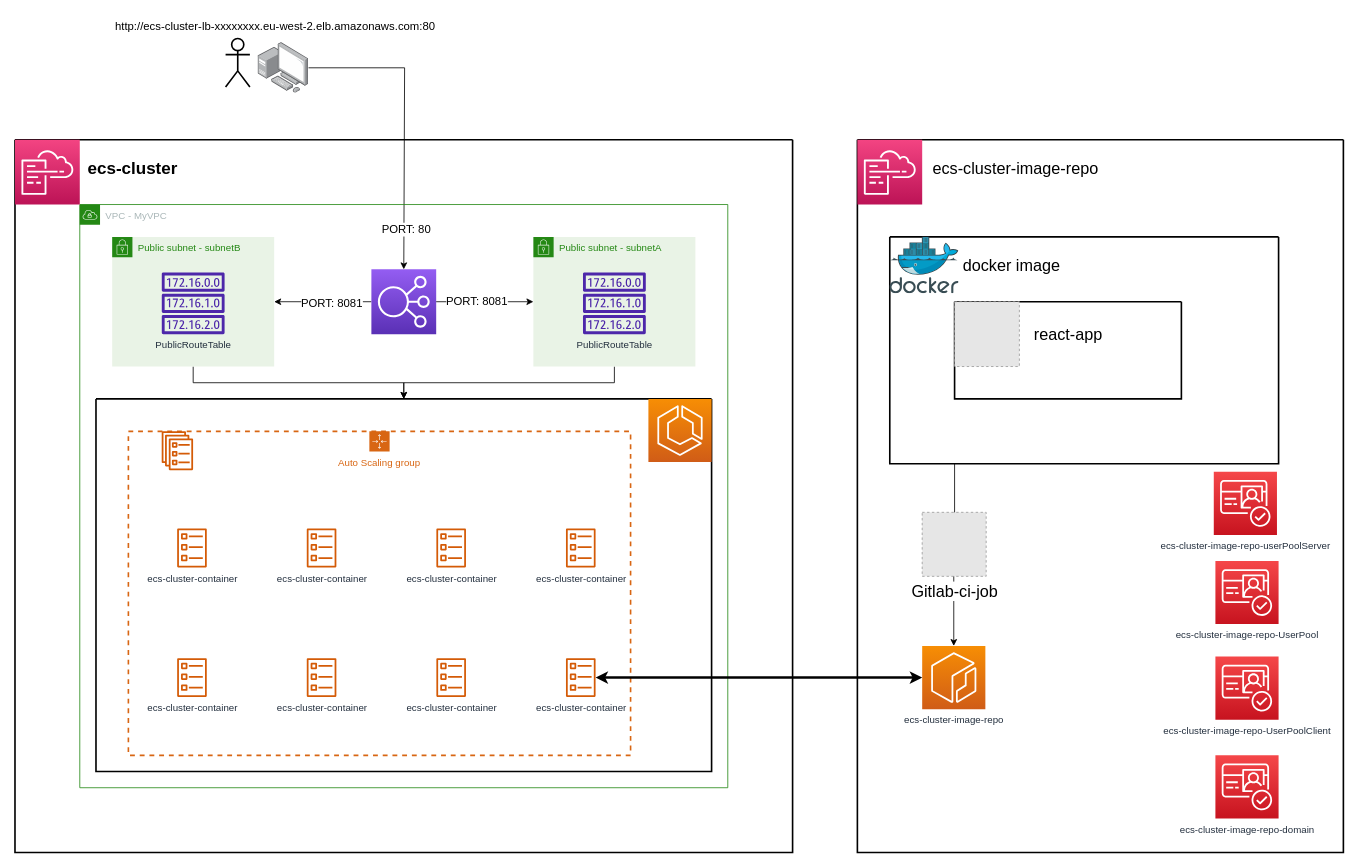
The diagram is 1358 pixels wide and 867 high, and some of its shapes have lost their labels. Grey dashed boxes stand in for pictures. The shapes that lost their labels are listed below. From the top down, each one's centre as x and y in pixels, then its label:
point (237, 62): Actor
point (403, 301): ecs-cluster-lb
point (177, 450): ecs-cluster-test-service
point (679, 430): ecs-cluster-test-cluster
